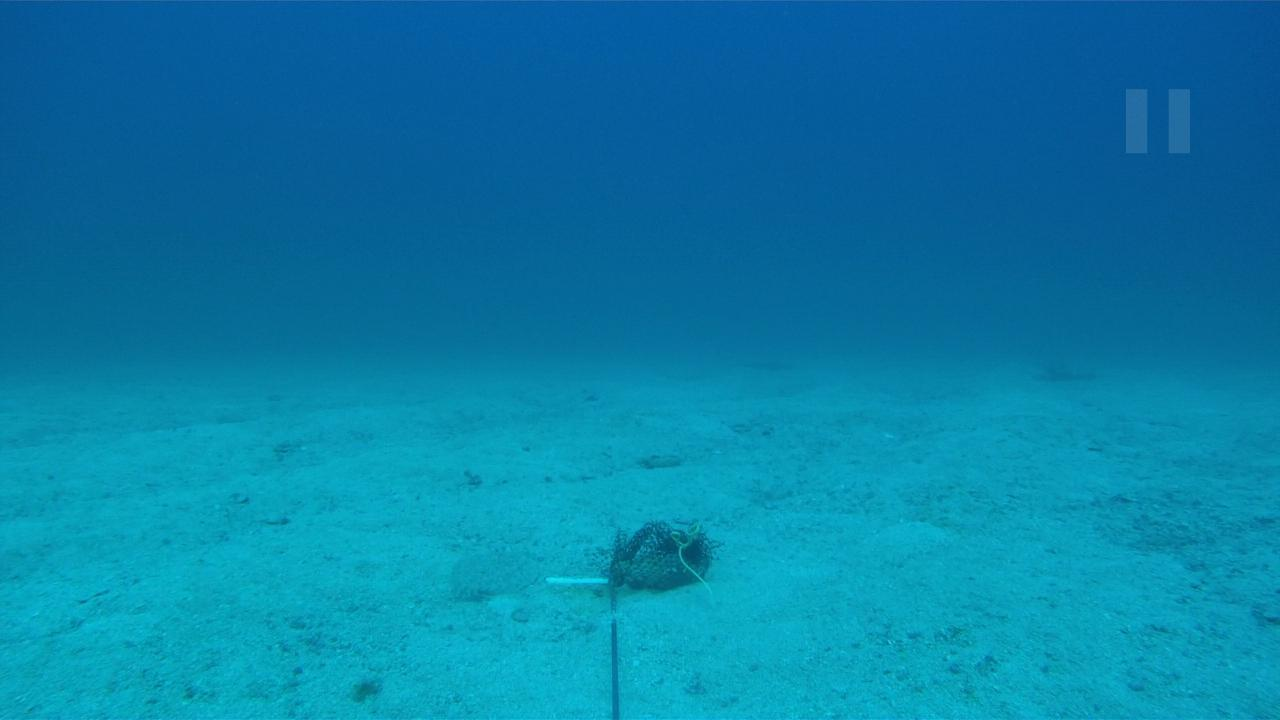bothus: (449, 541, 541, 602)
